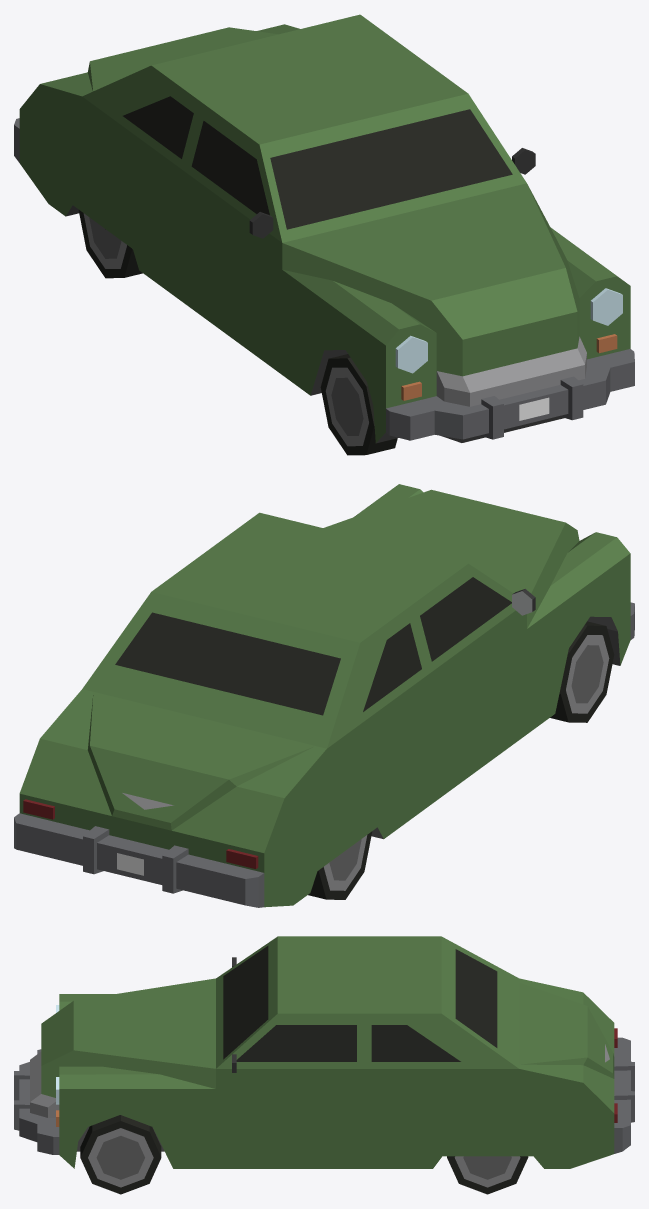
File: Veh_Retro_Car_01_Green.obj
3 renders of one model, top to bottom at view 1: azimuth 30°, elevation 25°; view 2: azimuth 150°, elevation 25°; view 3: azimuth 270°, elevation 25°, orthographic. The views are drawn at different scales.
Bounding box in the file's own units: 1.1 × 0.863 × 2.77.
